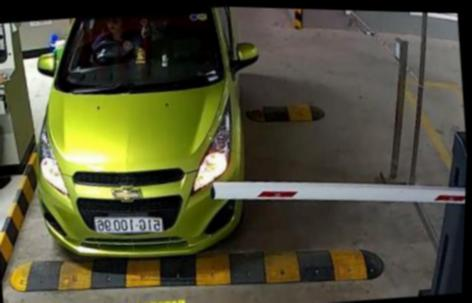License_Plate: (89, 210, 164, 242)
